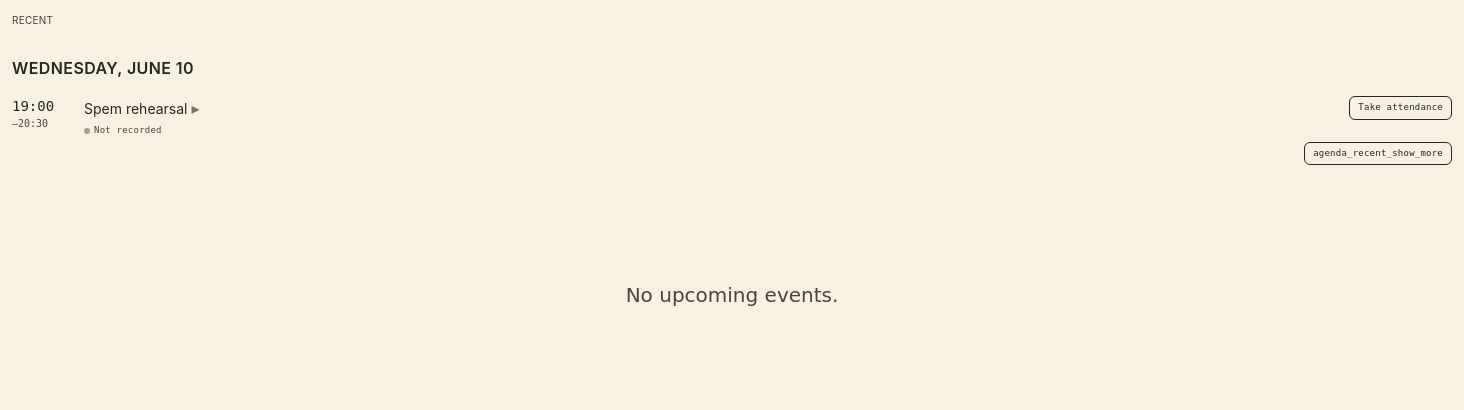
Test case: #86 — a11y: 'Take attendance' button identifies its event › the button's aria-label names the event — several recent rows each carry one, and 'Take attendance' alone doesn't say which rehearsal
This screenshot has width=1464, height=410.
Click the button with test id "agenda-recent-show-more" at {"x": 1378, "y": 153}, box [1304,142,1452,165]
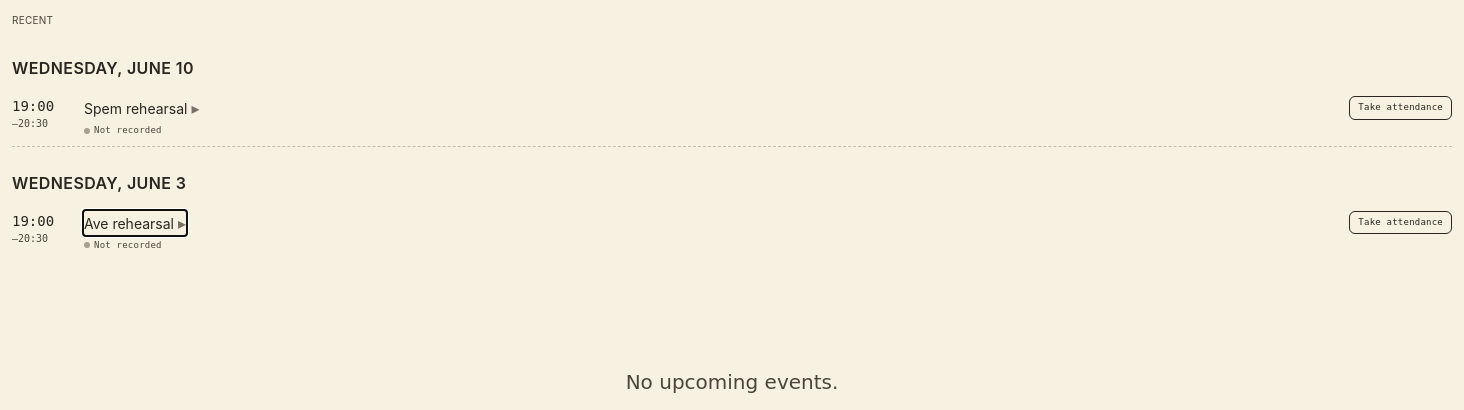
Check: the number of buttons with test id "take-attendance-btn" is 2, box [1349,96,1452,120]; [1349,210,1452,234]
